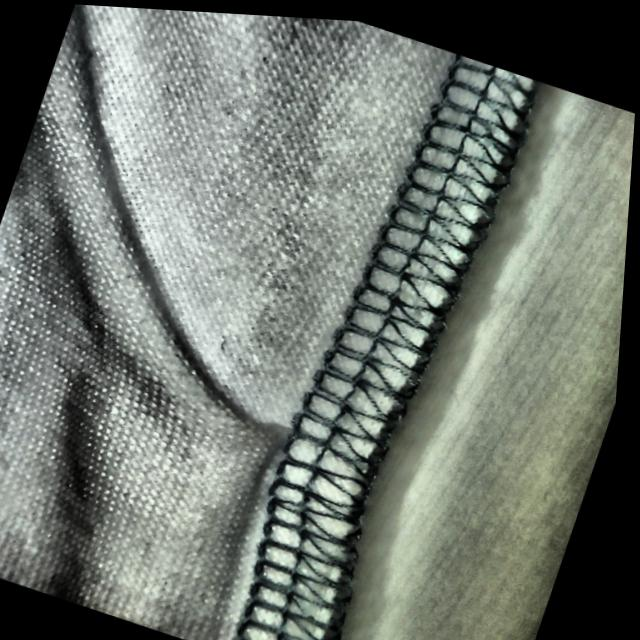seam: (170, 356, 434, 573)
